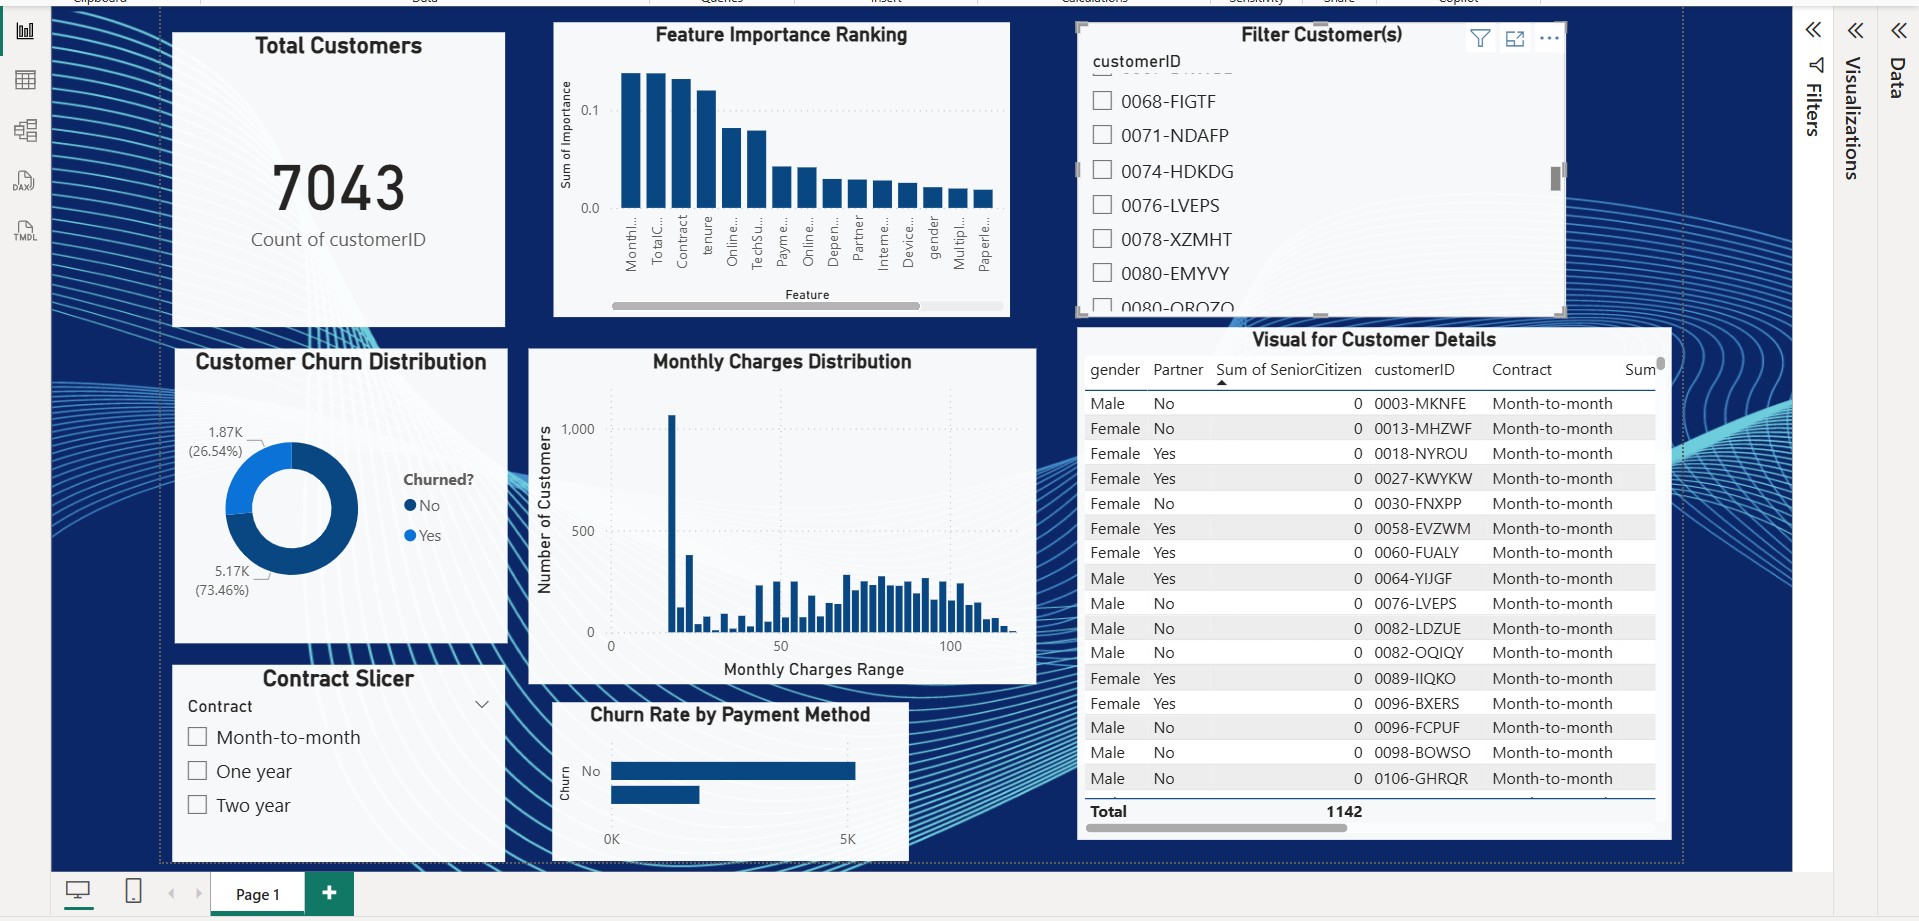

Layout of this report page (visuals, bound fields, positions):
{"tool":"powerbi","page":{"name":"Page 1","canvas":[1280,720],"ordinal":0},"visuals":[{"type":"card","title":"Total Customers","fields":{"Values":["CountNonNull(churn_predictions_for_powerbi.customerID)"]},"box":[9.9,22.2,280.2,248.1],"z":0},{"type":"donutChart","title":"Customer Churn Distribution","fields":{"Category":["churn_predictions_for_powerbi.Churn"],"Y":["CountNonNull(churn_predictions_for_powerbi.customerID)"]},"box":[11.1,287.7,280.2,248.1],"z":1000},{"type":"slicer","title":"Contract Slicer","fields":{"Values":["churn_predictions_for_powerbi.Contract"]},"box":[9.5,554.1,279.7,166.1],"z":2000},{"type":"clusteredColumnChart","title":"Feature Importance Ranking","fields":{"Category":["feature_importance.Feature"],"Y":["Sum(feature_importance.Importance)"]},"box":[329.6,13.6,384,248.1],"z":3000},{"type":"clusteredBarChart","title":"Churn Rate by Payment Method","fields":{"Y":["CountNonNull(churn_predictions_for_powerbi.PaymentMethod)"],"Category":["churn_predictions_for_powerbi.Churn"]},"box":[329.1,586,300,133.7],"z":4000},{"type":"clusteredColumnChart","title":"Monthly Charges Distribution","fields":{"Category":["churn_predictions_for_powerbi.MonthlyCharges (bins)"],"Y":["CountNonNull(churn_predictions_for_powerbi.customerID)"]},"box":[308.6,287.7,427.2,282.7],"z":5000},{"type":"tableEx","title":"Visual for Customer Details","fields":{"Values":["churn_predictions_for_powerbi.gender","churn_predictions_for_powerbi.Partner","Sum(churn_predictions_for_powerbi.SeniorCitizen)","churn_predictions_for_powerbi.customerID","churn_predictions_for_powerbi.Contract","Sum(churn_predictions_for_powerbi.TotalCharges)","Sum(churn_predictions_for_powerbi.tenure)","churn_predictions_for_powerbi.PaymentMethod","churn_predictions_for_powerbi.Churn","Sum(churn_predictions_for_powerbi.MonthlyCharges)"]},"box":[770.4,270.4,500,430.9],"z":6000},{"type":"slicer","title":"Filter Customer(s)","fields":{"Values":["churn_predictions_for_powerbi.customerID"]},"box":[770.7,13.7,411.1,248.1],"z":7000}]}

Visuals, with their boxes in screenshot pixels (x1, y1, x2, y2):
"Total Customers" card: Rect(157, 17, 497, 318)
"Customer Churn Distribution" donutChart: Rect(158, 340, 499, 641)
"Contract Slicer" slicer: Rect(156, 663, 496, 865)
"Feature Importance Ranking" clusteredColumnChart: Rect(545, 7, 1012, 308)
"Churn Rate by Payment Method" clusteredBarChart: Rect(545, 702, 909, 864)
"Monthly Charges Distribution" clusteredColumnChart: Rect(520, 340, 1039, 683)
"Visual for Customer Details" tableEx: Rect(1081, 318, 1688, 842)
"Filter Customer(s)" slicer: Rect(1081, 7, 1581, 308)
